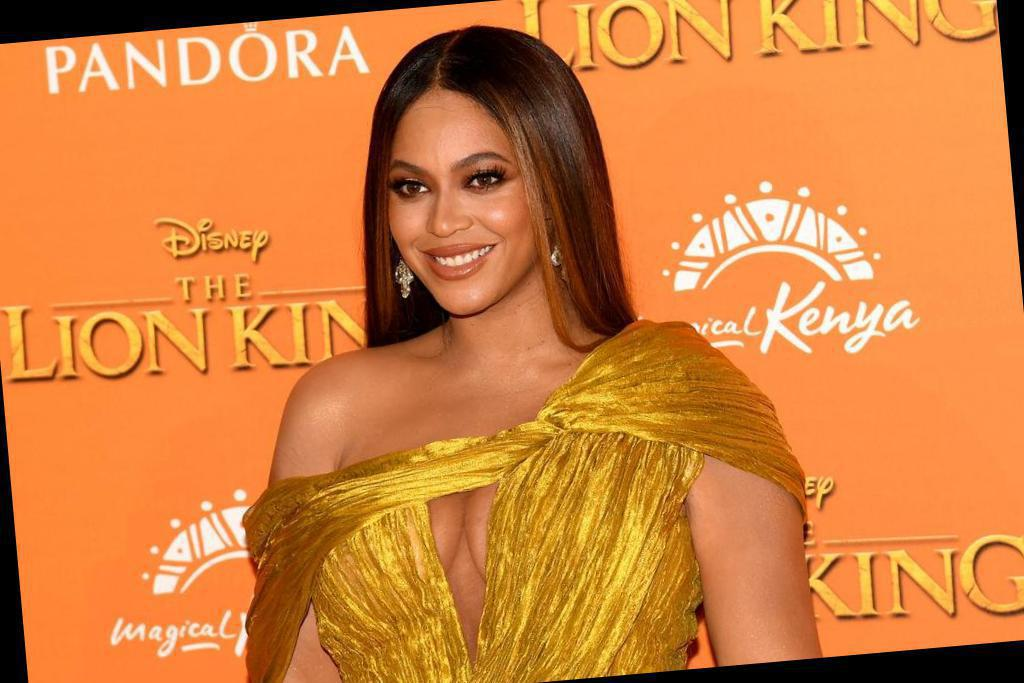Sober: (395, 105, 523, 310)
